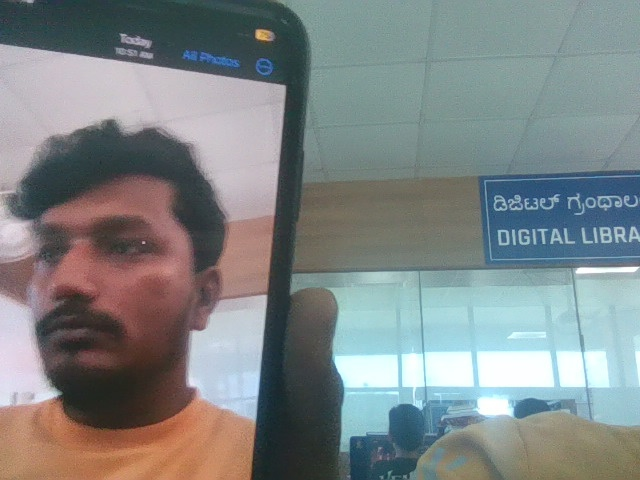fake: (0, 85, 232, 414)
